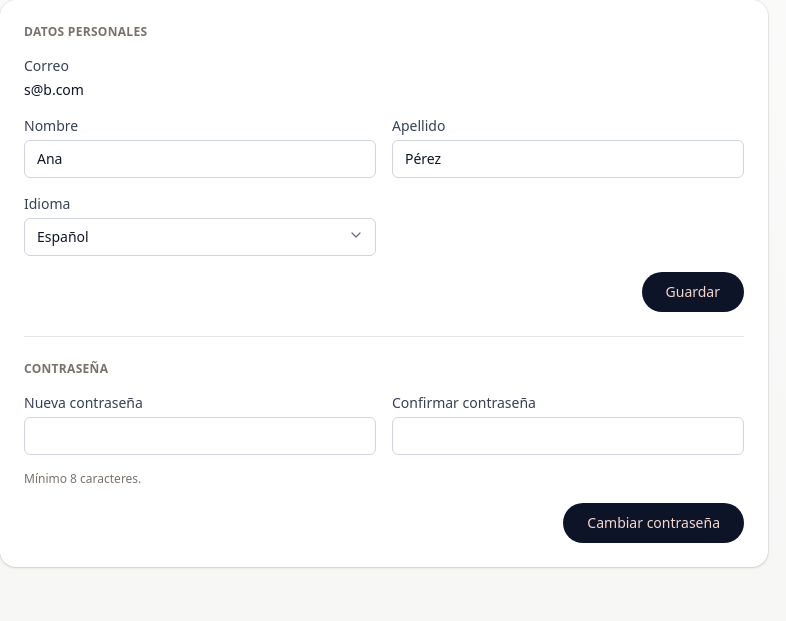
Test: ProfileSection › requires a first name
This screenshot has width=786, height=621.
Clear the field labelled "Nombre" at coordinates (200, 159), box x1=24 y1=140 x2=376 y2=178
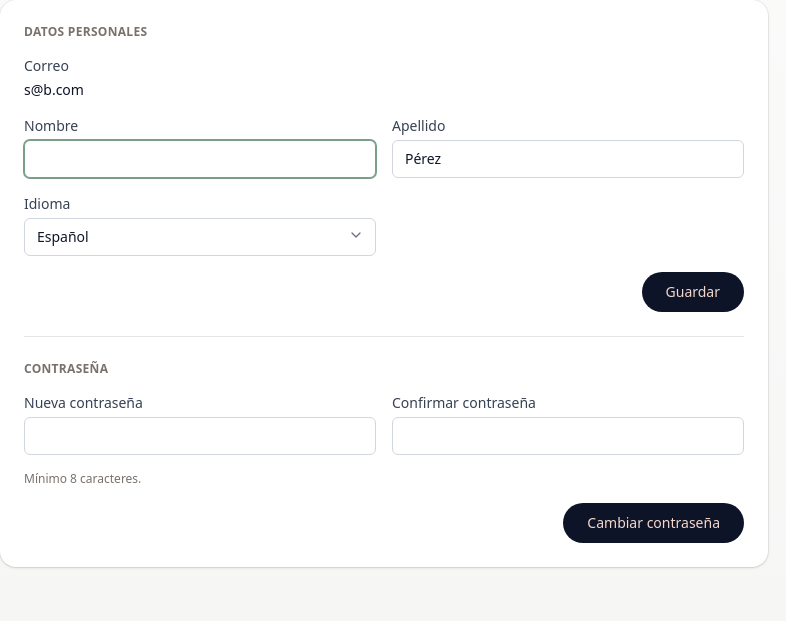
Click the button "Guardar" at coordinates (693, 292), box x1=642 y1=272 x2=744 y2=312
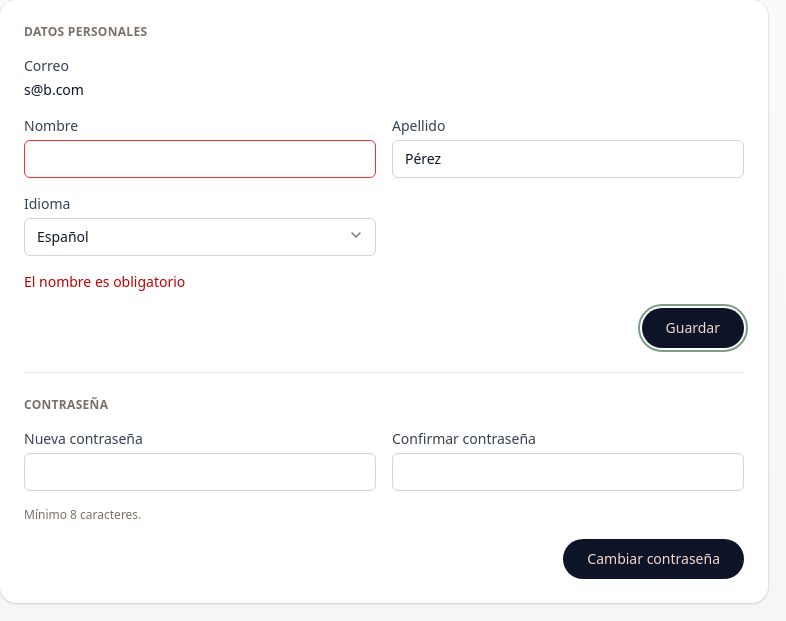
Check: the message reads "El nombre es obligatorio", box x1=24 y1=272 x2=185 y2=291
